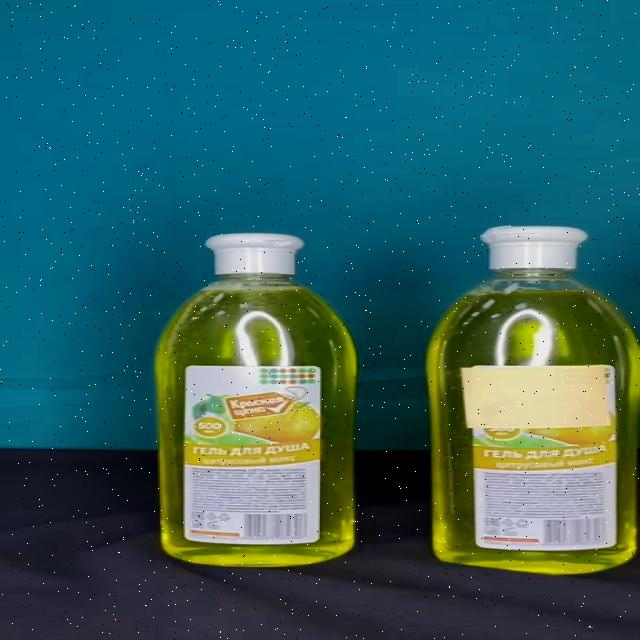Bottle: (426, 225, 640, 575), (153, 232, 356, 567)
Cap: (482, 226, 587, 270), (205, 234, 305, 275)
